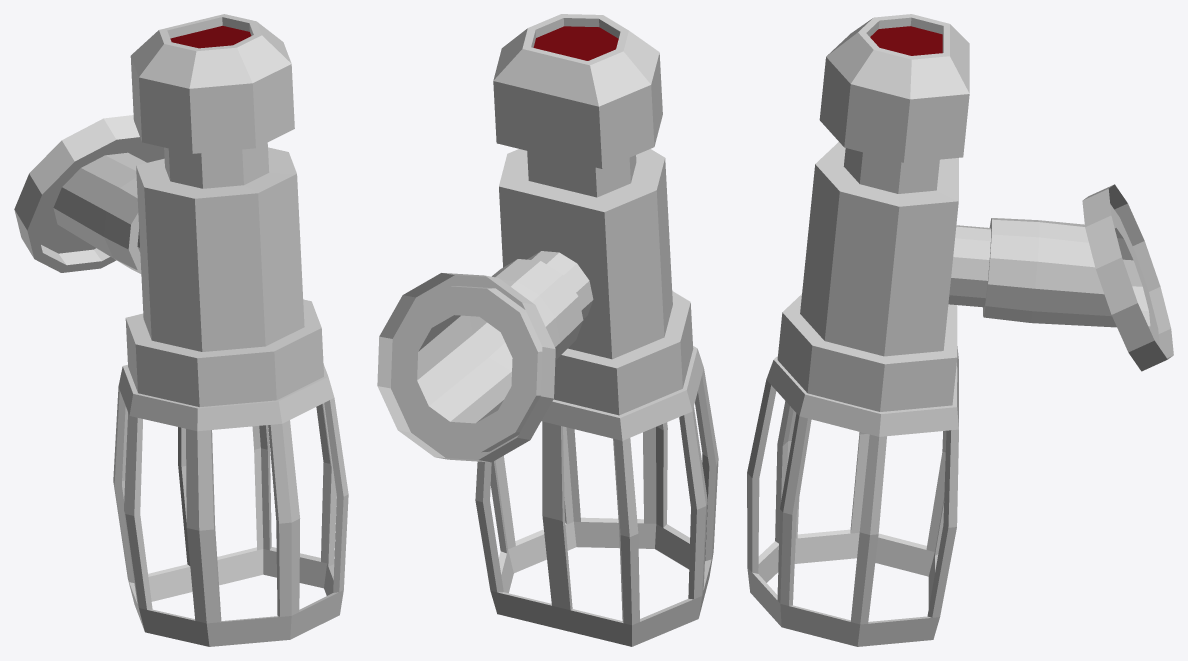
File: EnginePart.fbx
3 views of the same model, side by side, from view 1: azimuth 30°, elevation 25°; view 2: azimuth 150°, elevation 25°; view 3: azimuth 270°, elevation 25° (orthographic). The views are drawn at different scales.
Visible parts, largest first — view 1: Cylinder.315; view 2: Cylinder.315; view 3: Cylinder.315.
Boxes of the visible parts, <box> form: Cylinder.315: <box>14,14,348,646</box>; Cylinder.315: <box>377,14,718,646</box>; Cylinder.315: <box>747,14,1173,646</box>.
Size of the model in its own units: 423 by 1088 by 731.
